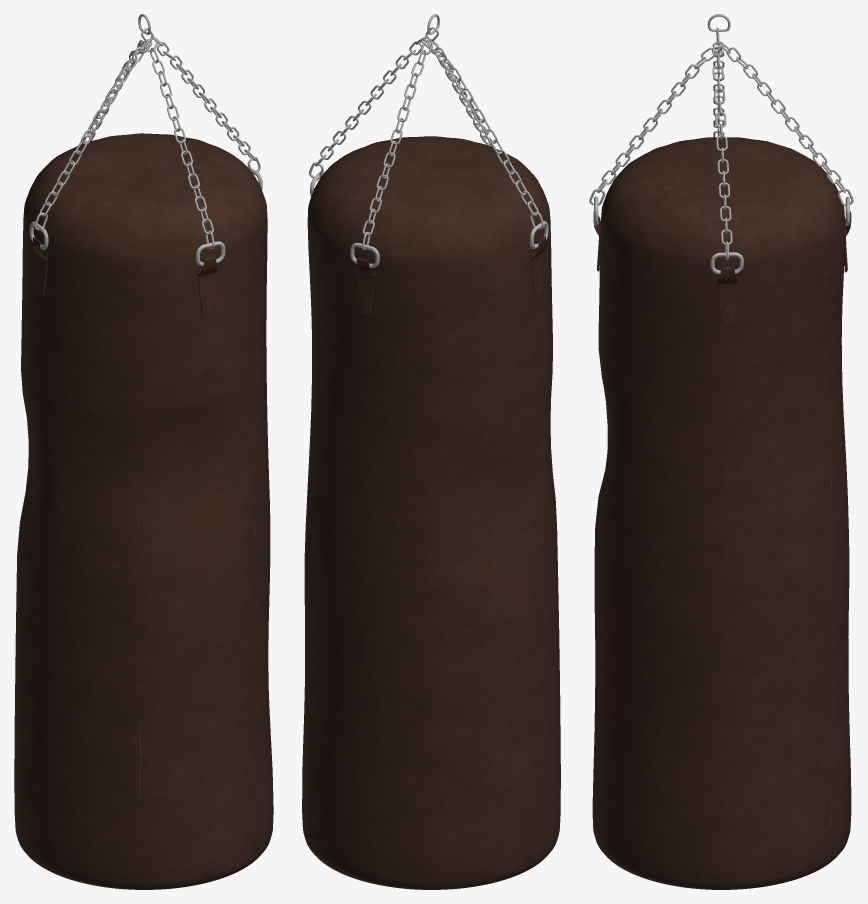
File: boxing_bag.glb
3 views of the same model, side by side, from view 1: azimuth 30°, elevation 25°; view 2: azimuth 150°, elevation 25°; view 3: azimuth 270°, elevation 25° (orthographic).
Visible parts, largest first — view 1: polySurface138, polySurface87, pasted__polySurface117, polySurface84, polySurface142, polySurface141; view 2: polySurface138, pasted__polySurface116, pasted__polySurface117, polySurface84, polySurface140, polySurface87, polySurface141; view 3: polySurface138, polySurface87, pasted__polySurface116, polySurface84, polySurface137.
Boxes of the visible parts, x1,y1,x2,y2 form: polySurface138: (14, 133, 273, 889); polySurface87: (141, 28, 214, 248); pasted__polySurface117: (34, 39, 152, 230); polySurface84: (151, 35, 260, 171); polySurface142: (197, 256, 217, 312); polySurface141: (33, 237, 47, 296); polySurface138: (302, 136, 560, 889); pasted__polySurface116: (362, 40, 433, 249); pasted__polySurface117: (426, 38, 544, 229); polySurface84: (309, 36, 428, 178); polySurface140: (355, 257, 375, 314); polySurface87: (421, 27, 492, 146); polySurface141: (531, 236, 546, 294); polySurface138: (592, 137, 851, 889); polySurface87: (589, 27, 724, 205); pasted__polySurface116: (719, 41, 853, 206); polySurface84: (712, 41, 732, 259); polySurface137: (716, 267, 738, 321).
Size of the model in its own units: 0.0215 by 0.0733 by 0.0213.
Materials: 2 (1 with a texture image).
